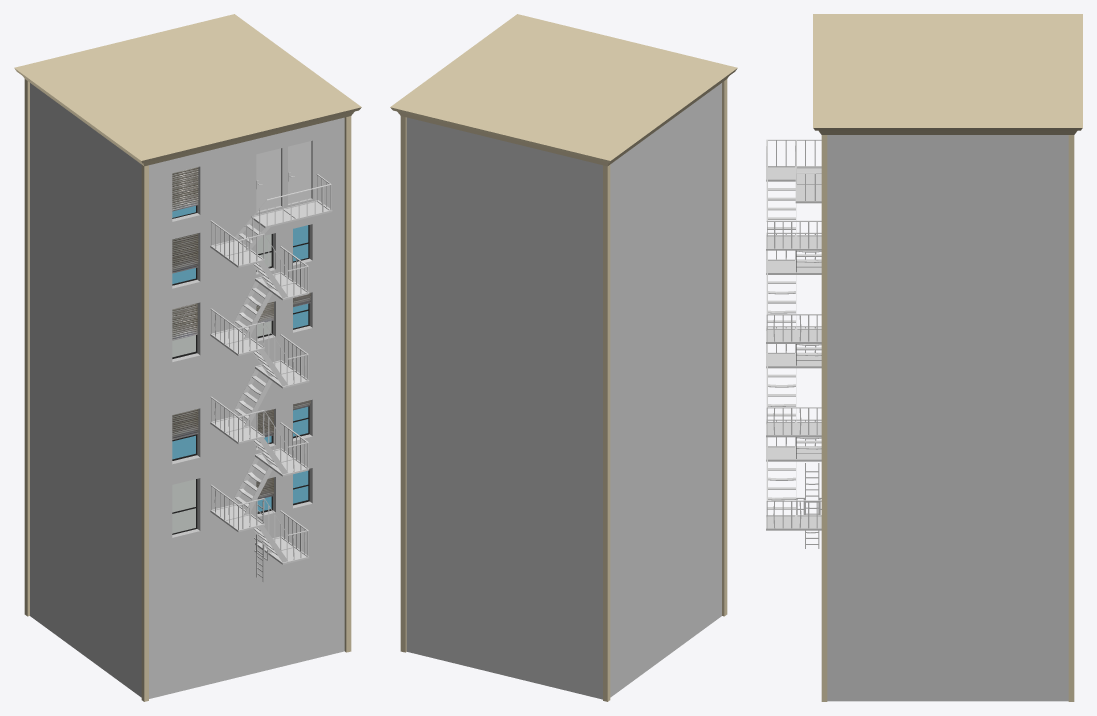
The model's file is Bloc_05F.fbx.
3 views of the same model, side by side, from view 1: azimuth 30°, elevation 25°; view 2: azimuth 150°, elevation 25°; view 3: azimuth 270°, elevation 25° (orthographic). The views are drawn at different scales.
Visible parts, largest first — view 1: Bloc_05F; view 2: Bloc_05F; view 3: Bloc_05F.
Part boxes in pixels (box(x1,y1,x2,y2)): Bloc_05F: box(14, 14, 361, 701); Bloc_05F: box(390, 14, 737, 701); Bloc_05F: box(766, 14, 1082, 701).
Bounding box in the file's own units: 1144 × 2302 × 974.
